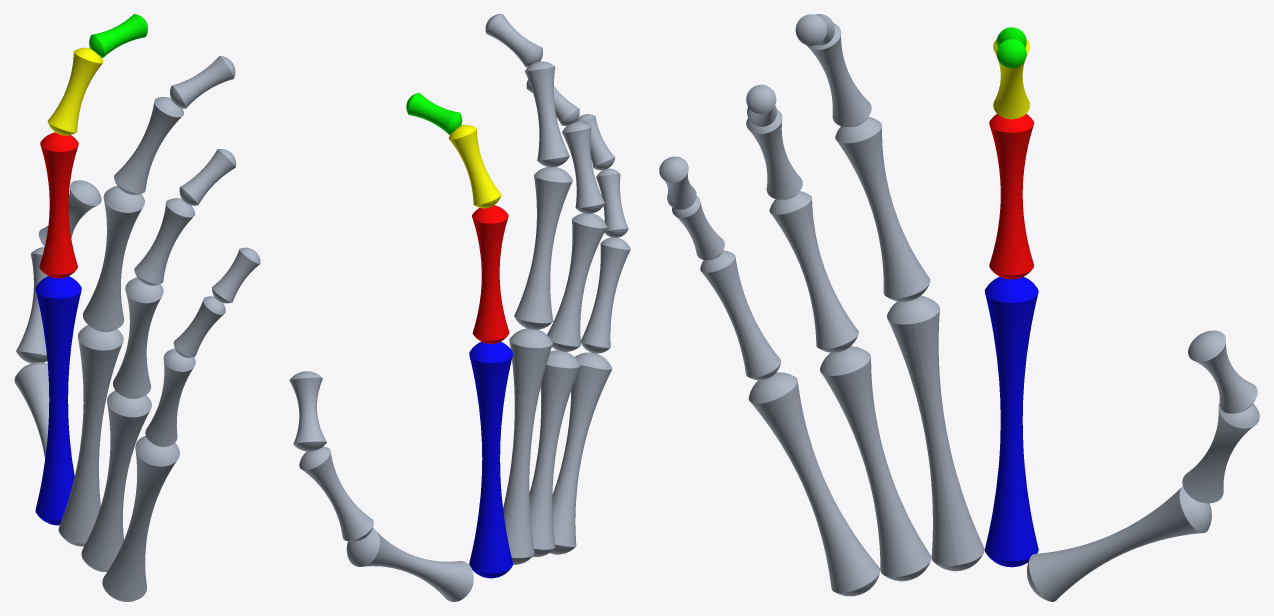
File: BoneStucture.glb
The picture shows the model from 3 angles, left to right: view 1: azimuth 30°, elevation 25°; view 2: azimuth 150°, elevation 25°; view 3: azimuth 270°, elevation 25°; orthographic projection. The views are drawn at different scales.
Parts seen in each view (by area): view 1: Body1, Body1008, Body1016, Body1005, Body1010, Body1002, Body1018, Body1012, Body1007, Body1001, Body1004, Body1013 (+7 smaller); view 2: Body1, Body1008, Body1016, Body1005, Body1010, Body1013, Body1002, Body1018, Body1007, Body1015, Body1012, Body1001 (+7 smaller); view 3: Body1, Body1008, Body1016, Body1005, Body1013, Body1010, Body1002, Body1018, Body1007, Body1015, Body1017, Body1012 (+7 smaller).
Part boxes in pixels (box(x1,y1,x2,y2)): Body1: box(35, 276, 81, 525); Body1008: box(58, 325, 123, 546); Body1016: box(81, 390, 151, 571); Body1005: box(102, 435, 179, 601); Body1010: box(83, 186, 144, 331); Body1002: box(39, 132, 78, 278); Body1018: box(113, 277, 163, 398); Body1012: box(114, 97, 183, 194); Body1007: box(145, 348, 195, 446); Body1001: box(134, 198, 195, 285); Body1004: box(47, 47, 103, 135); Body1013: box(14, 362, 49, 458); Body1: box(469, 341, 512, 578); Body1008: box(503, 328, 552, 564); Body1016: box(529, 350, 580, 556); Body1005: box(549, 352, 612, 554); Body1010: box(514, 167, 572, 329); Body1013: box(346, 528, 473, 601); Body1002: box(472, 205, 509, 343); Body1018: box(547, 213, 607, 351); Body1007: box(580, 237, 630, 353); Body1015: box(299, 446, 373, 541); Body1012: box(525, 61, 569, 167); Body1001: box(562, 121, 604, 213); Body1: box(984, 276, 1038, 567); Body1008: box(887, 295, 984, 571); Body1016: box(820, 346, 931, 581); Body1005: box(748, 372, 880, 596); Body1013: box(1026, 486, 1211, 601); Body1010: box(835, 117, 930, 301); Body1002: box(989, 114, 1034, 279); Body1018: box(769, 191, 858, 352); Body1007: box(700, 250, 781, 380); Body1015: box(1182, 403, 1259, 503); Body1017: box(1188, 330, 1257, 413); Body1012: box(806, 23, 871, 127).
Size of the model in its own units: 46.25 by 156 by 136.
